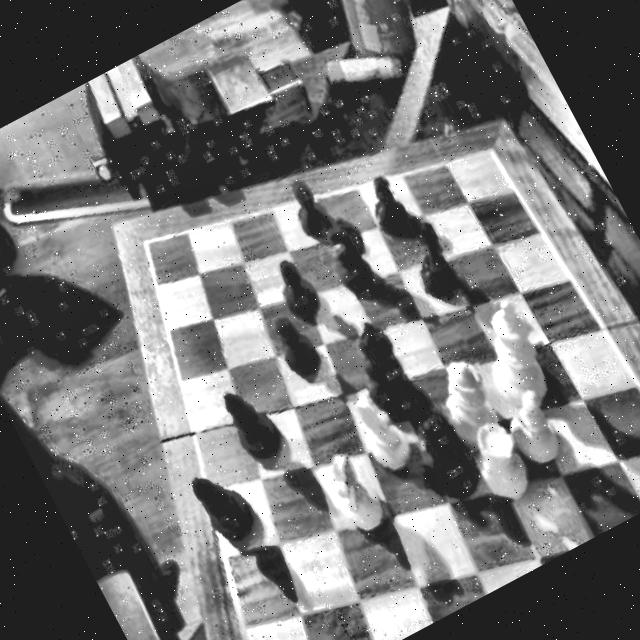black-bishop: (179, 458, 267, 562), (210, 377, 290, 475)
black-king: (326, 309, 432, 440)
black-knight: (306, 210, 389, 307), (391, 215, 473, 312)
black-pawn: (256, 306, 328, 389), (352, 169, 420, 248), (274, 174, 338, 251), (262, 253, 324, 328)
black-queen: (396, 402, 488, 512)
white-bishop: (486, 383, 570, 479)
white-king: (452, 293, 566, 424)
white-knight: (338, 386, 422, 486), (308, 446, 390, 546)
white-queen: (416, 353, 508, 459)
white-rook: (451, 412, 540, 514)
